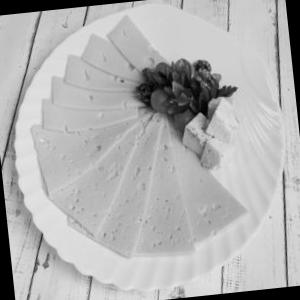cheese: (8, 2, 278, 276)
